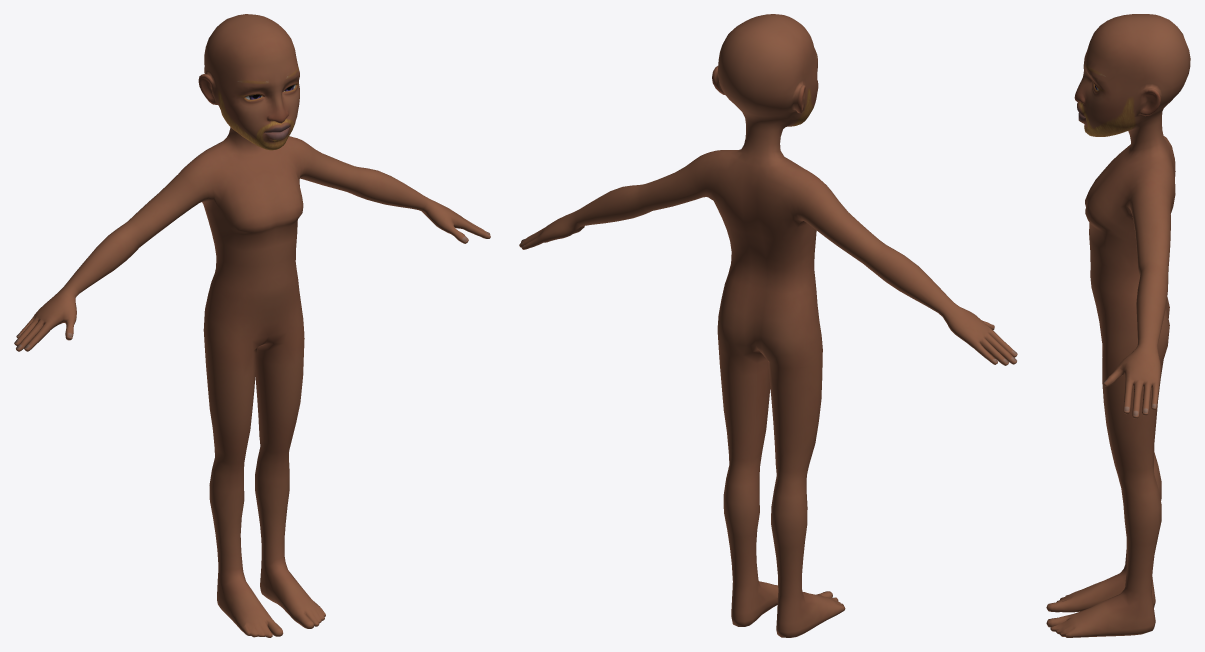
The model's file is frame_0047.glb.
The picture shows the model from 3 angles, left to right: view 1: azimuth 30°, elevation 25°; view 2: azimuth 150°, elevation 25°; view 3: azimuth 270°, elevation 25°; orthographic projection. The views are drawn at different scales.
Parts seen in each view (by area): view 1: frame_0047_head_geo; view 2: frame_0047_head_geo; view 3: frame_0047_head_geo.
Boxes of the visible parts, box(x1,y1,x2,y2) form: frame_0047_head_geo: box(14, 14, 490, 637); frame_0047_head_geo: box(519, 14, 1017, 637); frame_0047_head_geo: box(1046, 14, 1190, 637).
Bounding box in the file's own units: 1.28 × 1.5 × 0.3253.
Materials: 3 (3 with a texture image).
